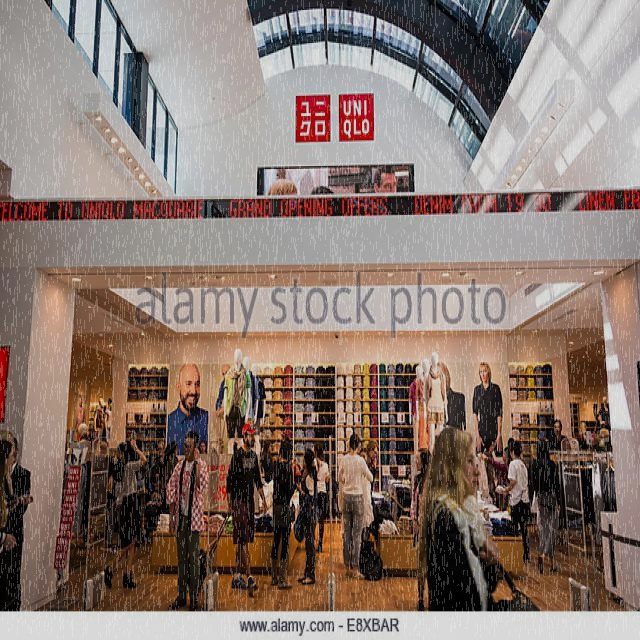pessoa: (416, 424, 515, 613), (223, 418, 270, 600), (164, 428, 209, 613), (101, 434, 148, 593), (0, 424, 33, 612), (408, 350, 468, 452), (337, 432, 374, 580), (264, 436, 298, 592), (527, 435, 563, 576), (493, 440, 533, 566), (259, 163, 414, 194), (213, 349, 267, 437), (165, 356, 209, 454), (292, 446, 320, 586), (467, 358, 505, 457), (65, 390, 112, 470), (410, 447, 432, 613), (104, 441, 130, 551), (477, 446, 513, 514), (312, 441, 330, 553), (160, 441, 179, 514), (592, 395, 612, 455), (482, 436, 497, 506), (547, 418, 572, 451), (358, 439, 380, 472), (155, 440, 167, 482), (368, 470, 376, 504), (150, 401, 167, 414), (505, 436, 513, 446)
